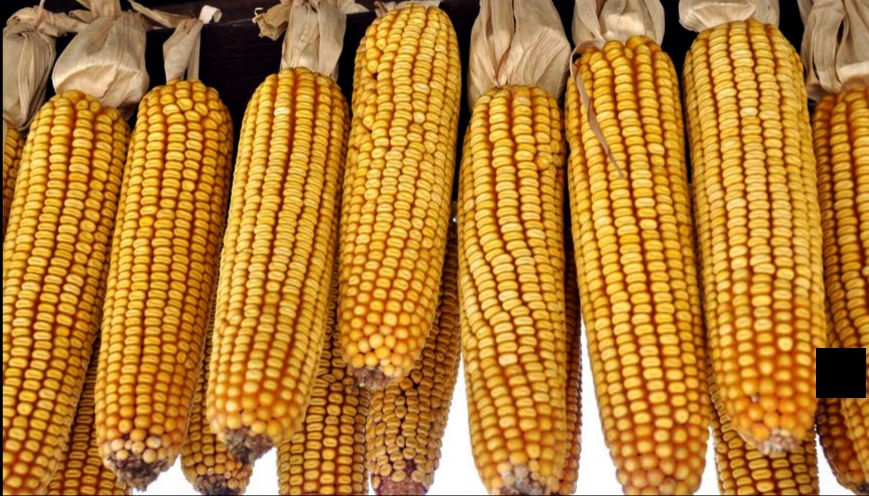corn: (564, 40, 708, 488), (681, 19, 825, 451), (340, 3, 460, 388), (3, 91, 119, 479), (460, 90, 568, 495), (222, 72, 325, 454), (109, 88, 197, 474)
